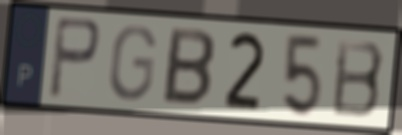2: (223, 31, 267, 113)
5: (279, 32, 325, 120)
B: (159, 24, 218, 110), (330, 36, 388, 121)
G: (106, 23, 159, 104)
P: (45, 13, 103, 102)
